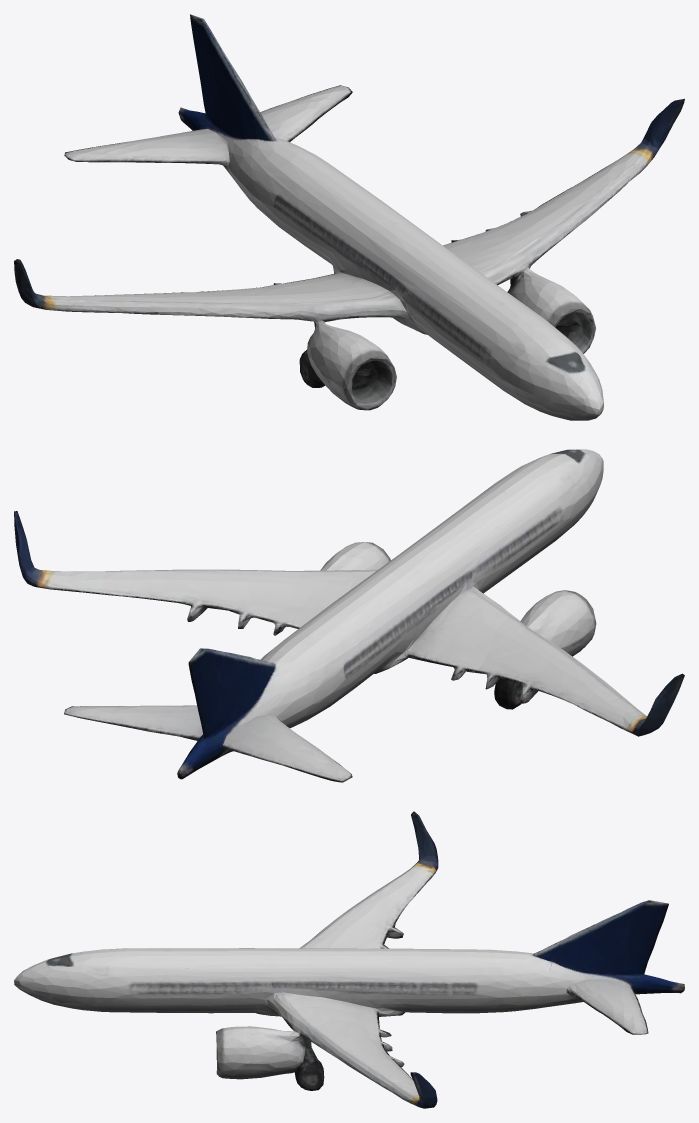
3 views of the same model, one above another, from view 1: azimuth 30°, elevation 25°; view 2: azimuth 150°, elevation 25°; view 3: azimuth 270°, elevation 25° (orthographic). The views are drawn at different scales.
Parts seen in each view (by area): view 1: geometry_0; view 2: geometry_0; view 3: geometry_0.
Boxes of the visible parts, <box> form: geometry_0: <box>14,14,684,420</box>; geometry_0: <box>14,449,684,782</box>; geometry_0: <box>14,811,684,1108</box>.
Size of the model in its own units: 0.9191 by 0.2471 by 0.9962.
Materials: 1 (1 with a texture image).
